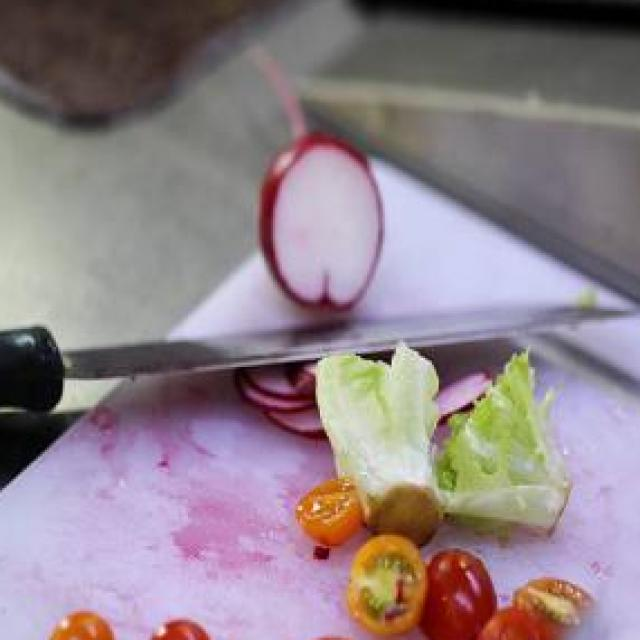knife: (0, 302, 640, 421)
